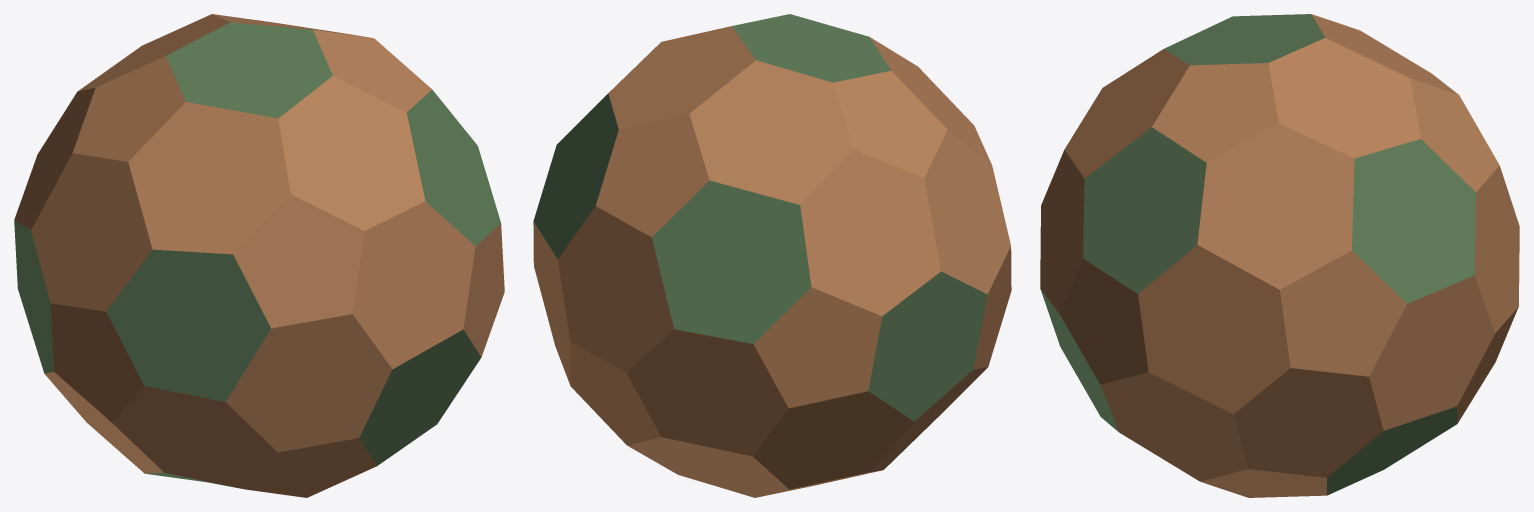
Rendered from Pallone.fbx.
3 views of the same model, side by side, from view 1: azimuth 30°, elevation 25°; view 2: azimuth 150°, elevation 25°; view 3: azimuth 270°, elevation 25° (orthographic). The views are drawn at different scales.
Parts seen in each view (by area): view 1: Icosphere.003; view 2: Icosphere.003; view 3: Icosphere.003.
Boxes of the visible parts, <box> form: Icosphere.003: <box>14,14,504,497</box>; Icosphere.003: <box>533,14,1011,497</box>; Icosphere.003: <box>1040,14,1519,497</box>.
Size of the model in its own units: 47.14 by 46 by 46.32.
